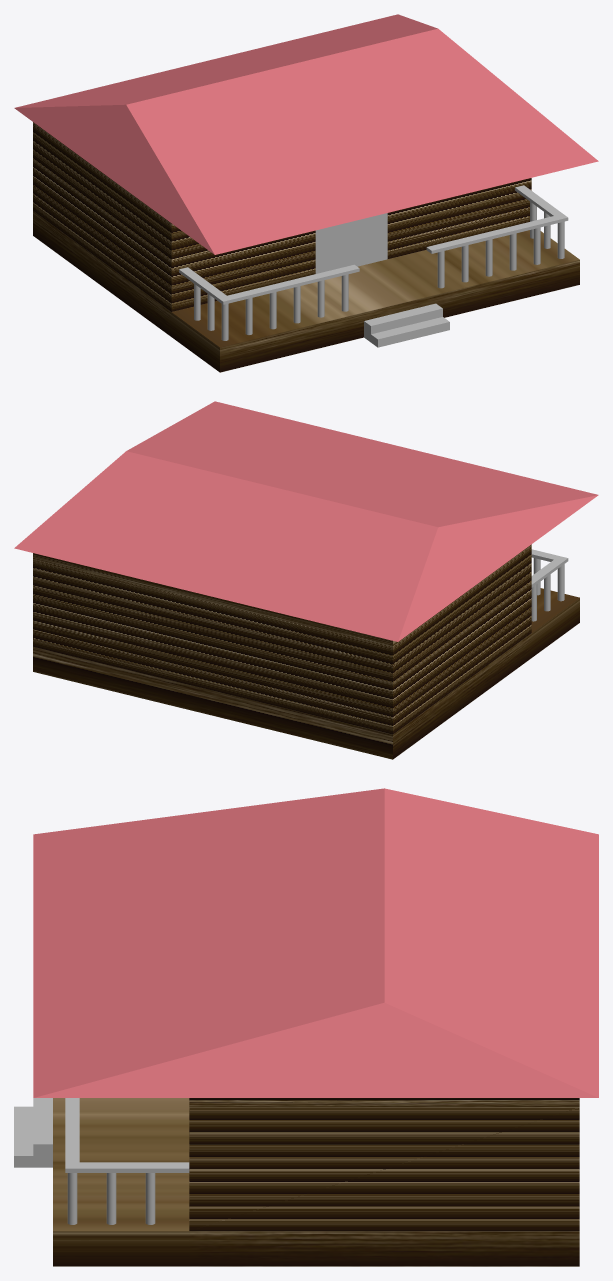
The model's file is Cottage_Outside.fbx.
The picture shows the model from 3 angles, top to bottom: view 1: azimuth 30°, elevation 25°; view 2: azimuth 150°, elevation 25°; view 3: azimuth 270°, elevation 25°; orthographic projection. The views are drawn at different scales.
Parts seen in each view (by area): view 1: pCube1, pCube2, pCube3, pCube4, pCube5; view 2: pCube1; view 3: pCube1, pCube5, pCube3.
Boxes of the visible parts, x1,y1,x2,y2 form: pCube1: [14, 14, 598, 372]; pCube2: [218, 264, 359, 304]; pCube3: [426, 214, 568, 253]; pCube4: [179, 267, 226, 300]; pCube5: [515, 185, 562, 216]; pCube1: [14, 401, 598, 759]; pCube1: [14, 788, 598, 1266]; pCube5: [79, 1162, 189, 1172]; pCube3: [65, 1098, 79, 1172].
Size of the model in its own units: 32 by 14 by 30.
